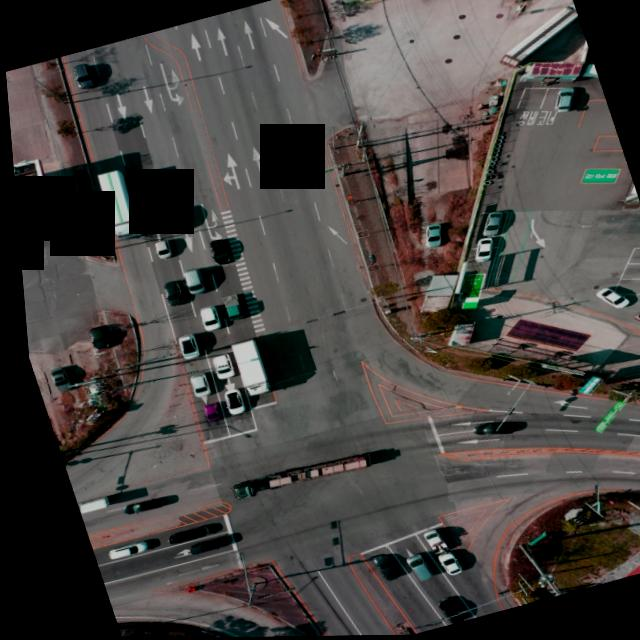car: (463, 417, 509, 442), (589, 283, 626, 313), (172, 533, 221, 555), (39, 362, 71, 394), (427, 593, 459, 624), (547, 85, 580, 115), (203, 349, 233, 380), (159, 524, 205, 544), (362, 550, 391, 581), (394, 552, 423, 582), (474, 210, 505, 238), (98, 539, 140, 559), (464, 235, 493, 263), (69, 60, 96, 89), (176, 266, 203, 295), (154, 278, 181, 306), (169, 329, 195, 357), (416, 223, 443, 249), (216, 386, 241, 414), (166, 203, 191, 230), (192, 302, 216, 330), (202, 235, 226, 263), (429, 551, 454, 577), (81, 324, 106, 350), (119, 496, 157, 513), (181, 371, 205, 397), (193, 400, 214, 422), (149, 238, 171, 259), (627, 305, 640, 332)
large_truck: (218, 448, 368, 501)
medium_truck: (484, 3, 585, 67), (90, 164, 141, 238), (223, 337, 267, 398)
small_truck: (411, 527, 438, 554), (216, 291, 241, 320), (67, 494, 102, 512)
